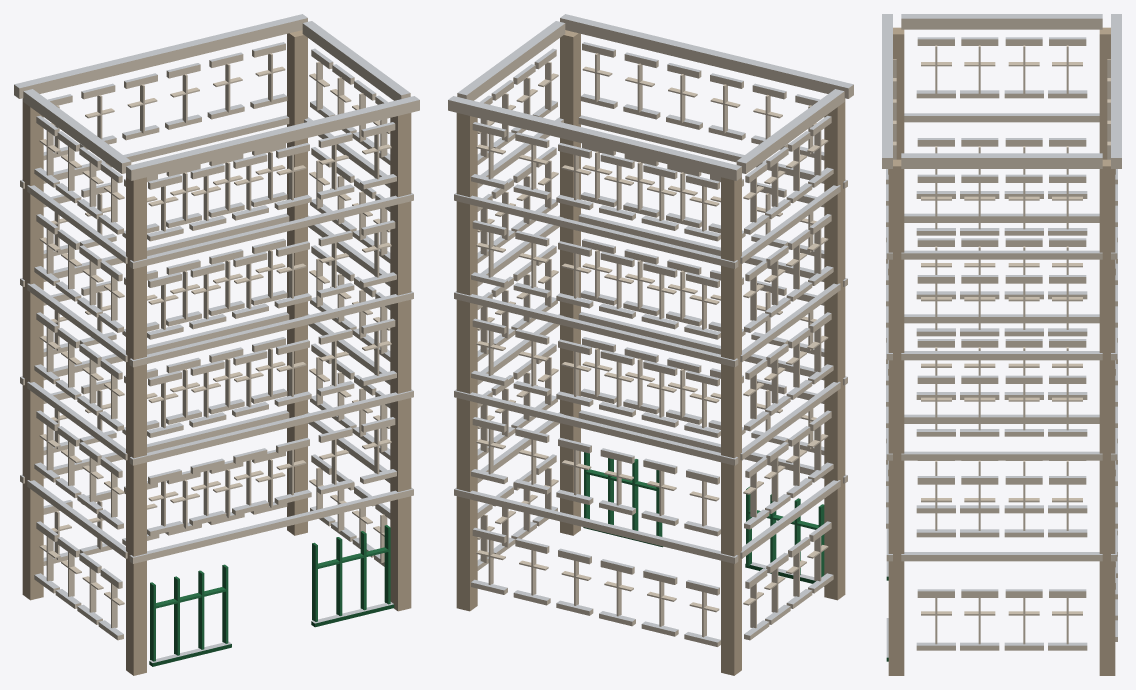
File: Apartment_Trim.glb
3 views of the same model, side by side, from view 1: azimuth 30°, elevation 25°; view 2: azimuth 150°, elevation 25°; view 3: azimuth 270°, elevation 25° (orthographic). The views are drawn at different scales.
Parts seen in each view (by area): view 1: Apartment_Trim; view 2: Apartment_Trim; view 3: Apartment_Trim.
Boxes of the visible parts, x1,y1,x2,y2 form: Apartment_Trim: (14,14,419,675); Apartment_Trim: (448,14,853,675); Apartment_Trim: (882,14,1121,675).
Bounding box in the file's own units: 33.8 × 57 × 23.8.
